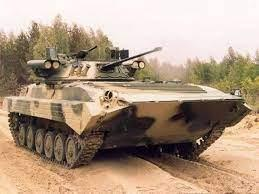tank: (0, 47, 254, 180)
